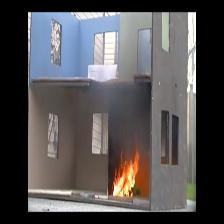fire: (110, 156, 138, 194)
smoke: (116, 96, 143, 141)
